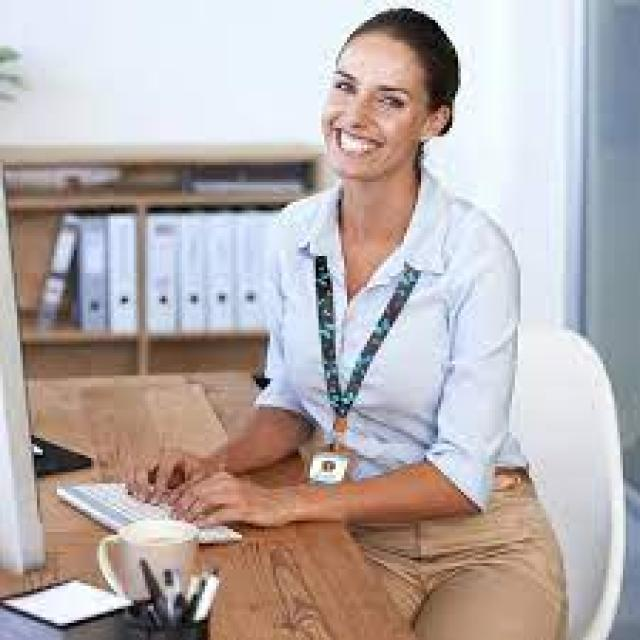id_card: (295, 232, 404, 484)
